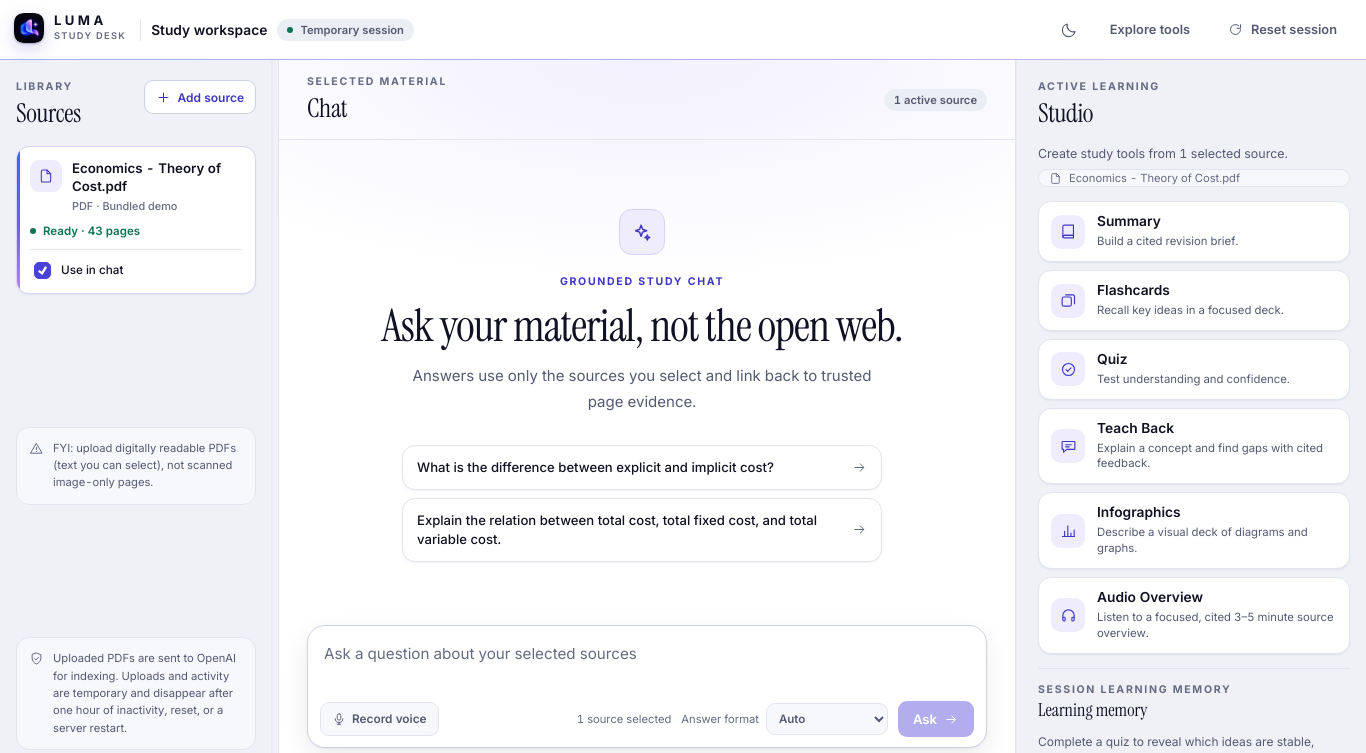
Test case: WorkspacePage › shows a confident misconception and updates Studio progress
The image size is (1366, 753).
Click the button "Quiz Test understanding and confidence." at (1194, 369), box [1038, 339, 1350, 400]
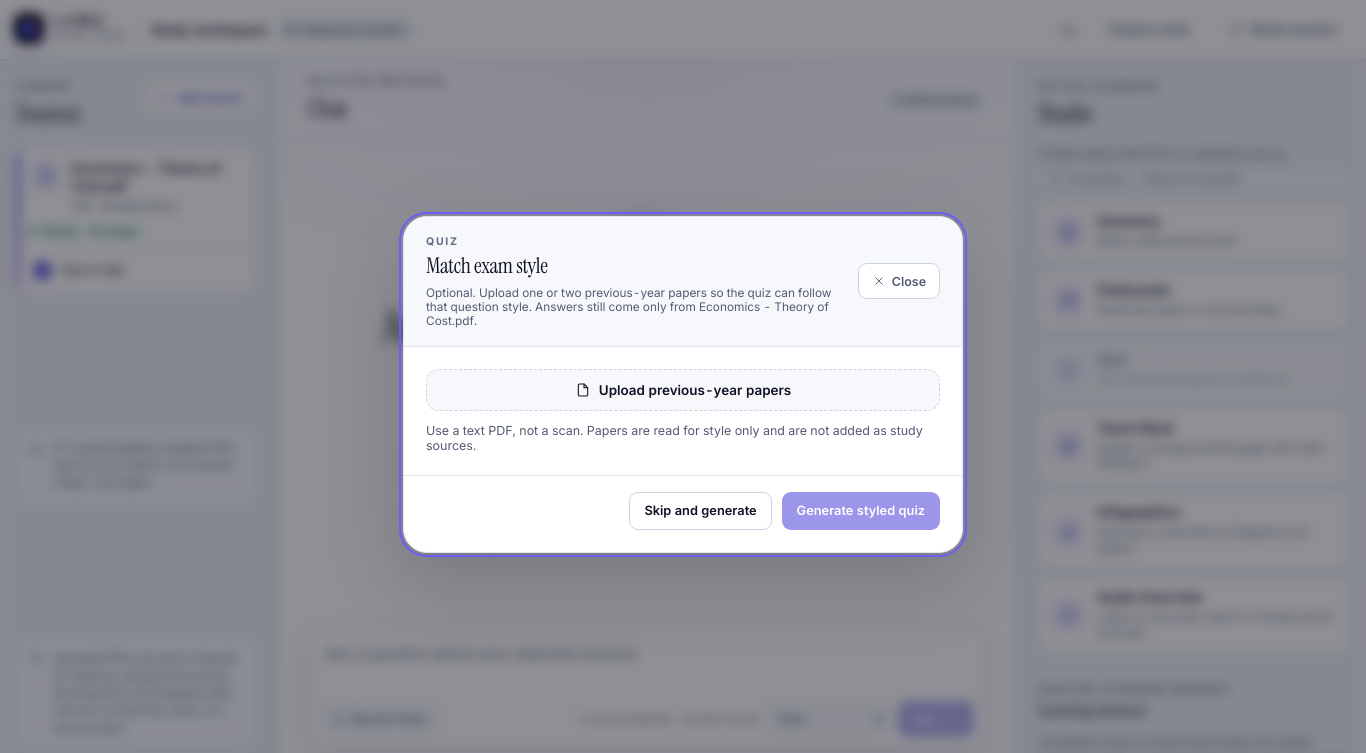
Click the button "Skip and generate" at (700, 510), box [629, 492, 772, 530]
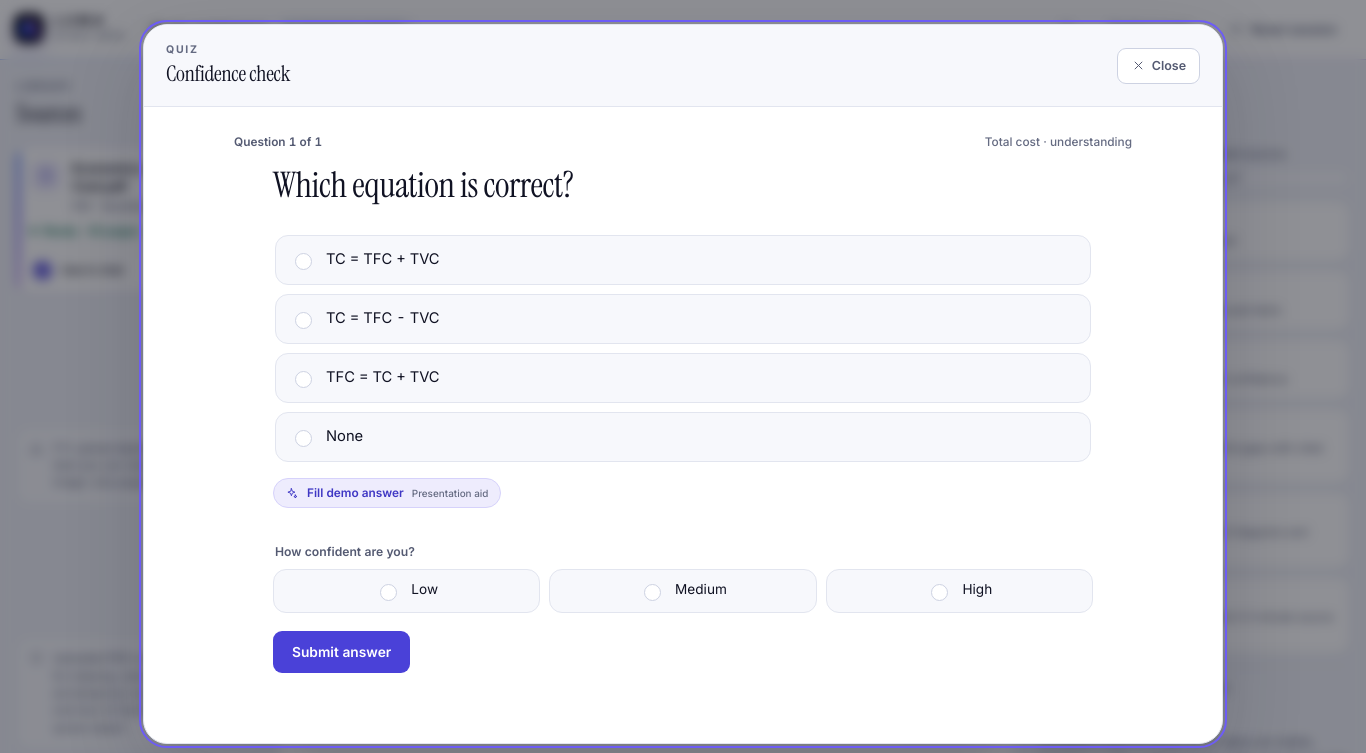
Check: the dialog "Confidence check" is shown
Click the radio button labelled "TC = TFC - TVC" at (304, 320), box [295, 312, 312, 329]
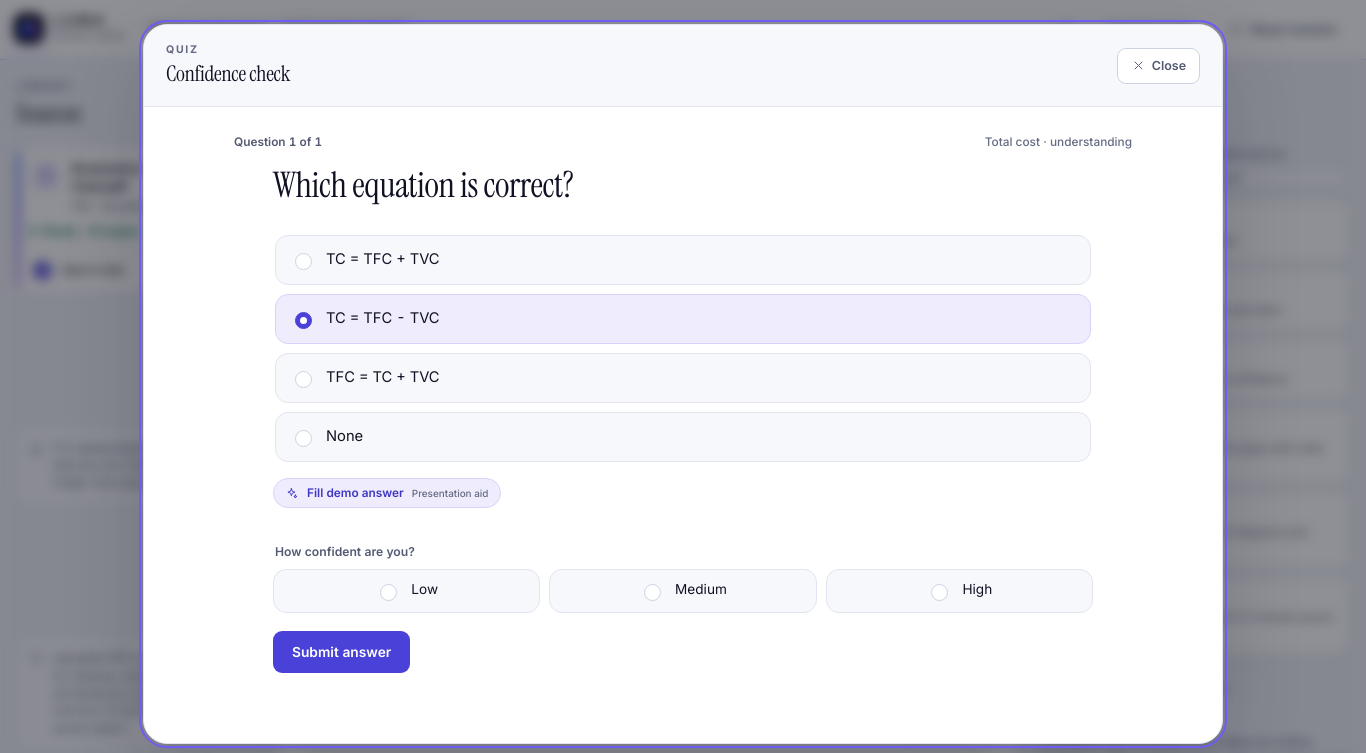
Click the radio button labelled "High" at (940, 592), box [931, 584, 948, 601]
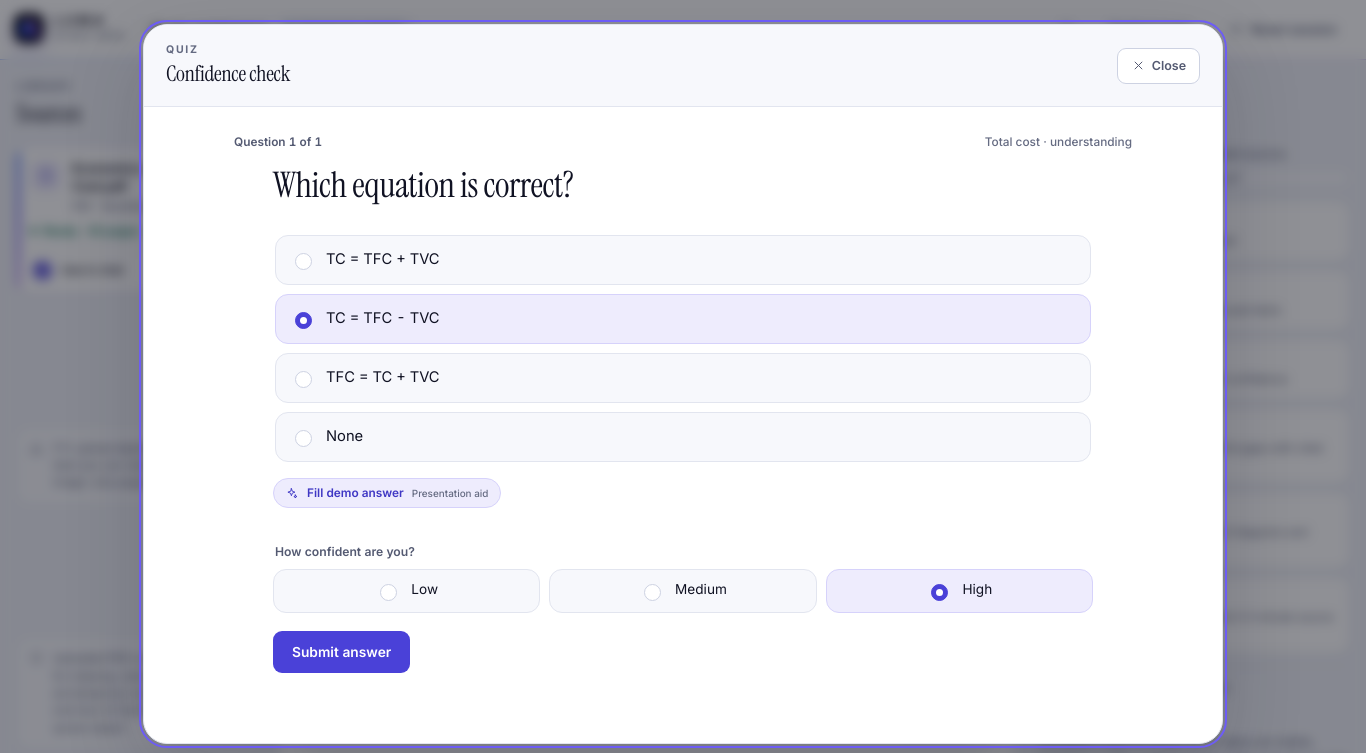
Click the button "Submit answer" at (342, 652), box [273, 631, 410, 673]
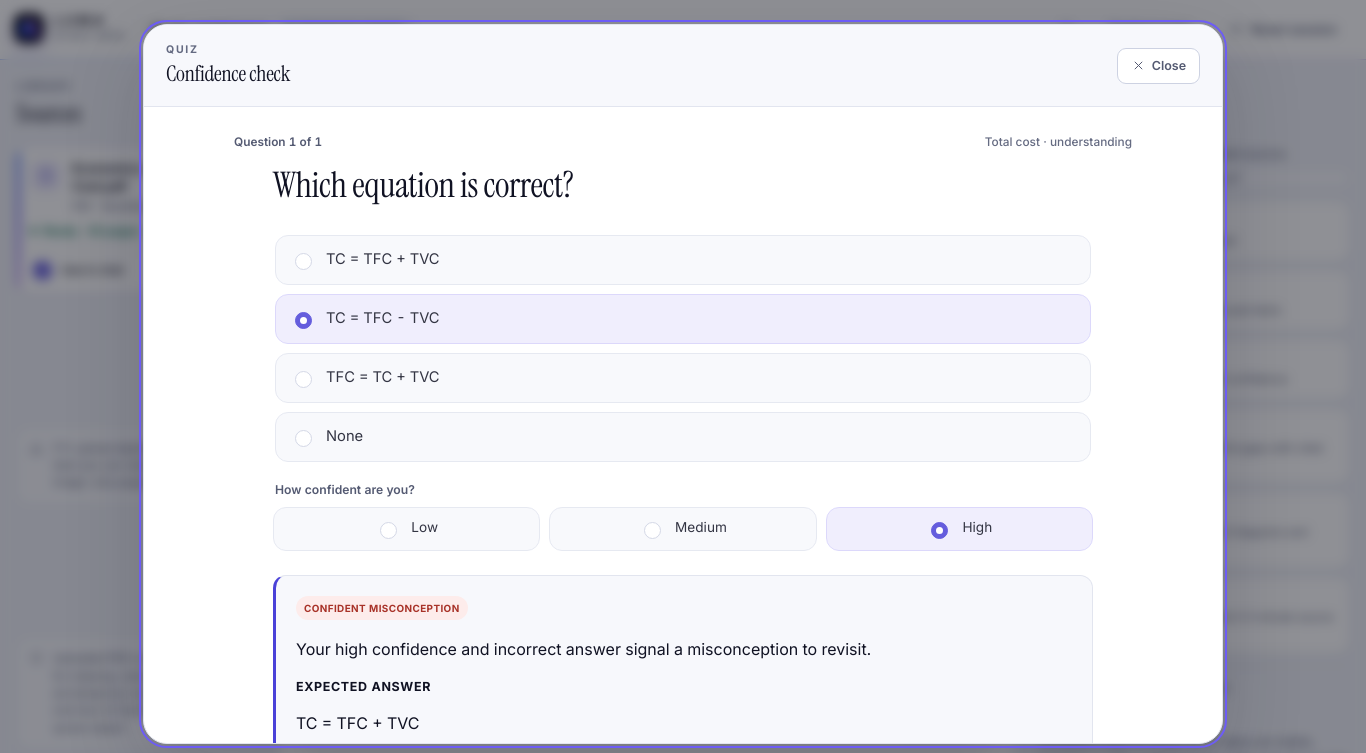
Check: the text "Confident misconception" is shown, box [296, 596, 468, 620]
Click the button "Close" at (1158, 66), box [1117, 48, 1200, 84]
(page scrolled)
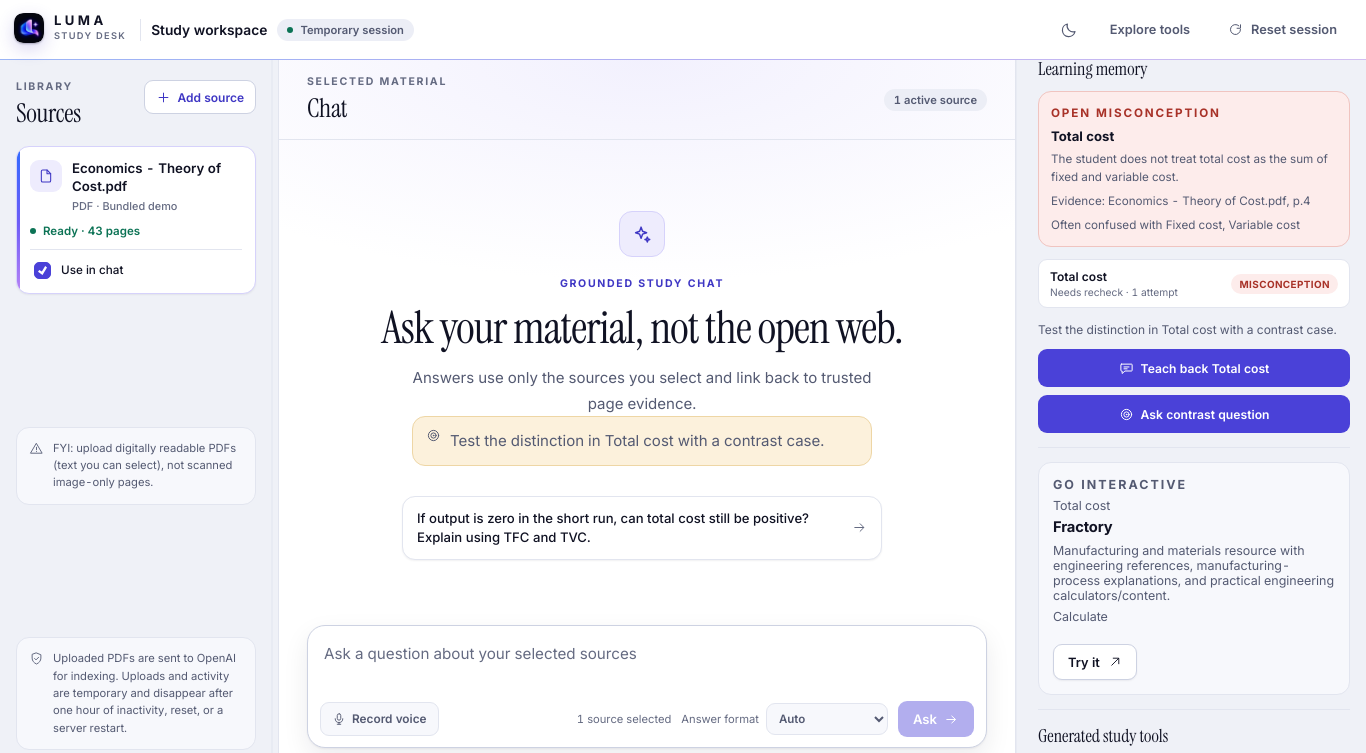
Check: the text "Misconception" is shown, box [1232, 274, 1338, 294]
Check: the text "Open misconception" is shown, box [1051, 106, 1221, 120]
Check: the button "Teach back Total cost" is shown, box [1038, 349, 1350, 387]
